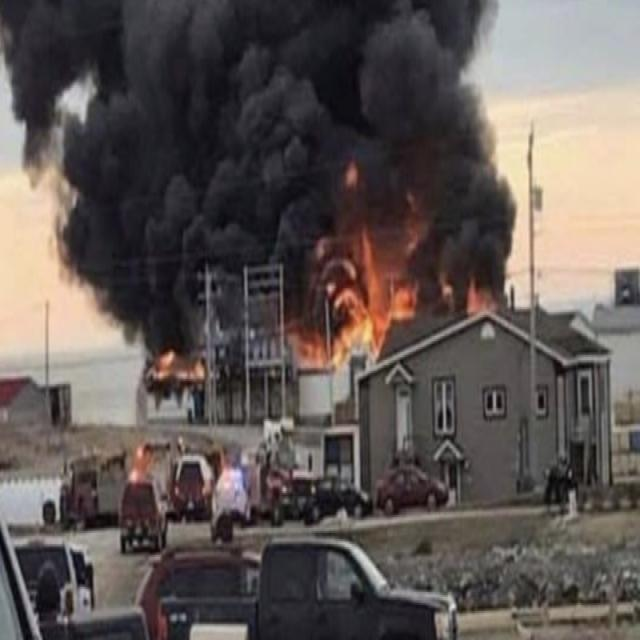Fire: (352, 232, 412, 321), (335, 282, 378, 354), (293, 322, 335, 374), (162, 352, 203, 387), (468, 283, 488, 312), (346, 163, 360, 185)
Smoke: (52, 8, 298, 202)
